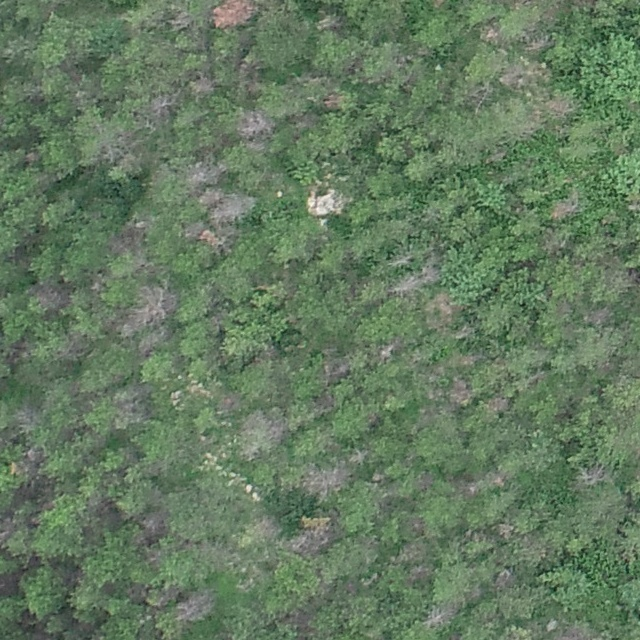unhealthy: (449, 131, 494, 193), (139, 329, 186, 368), (0, 379, 40, 415), (108, 430, 137, 467), (114, 404, 154, 427), (575, 604, 602, 635), (478, 607, 509, 632), (214, 624, 262, 640), (183, 276, 206, 300), (401, 353, 427, 374), (382, 567, 405, 588)
